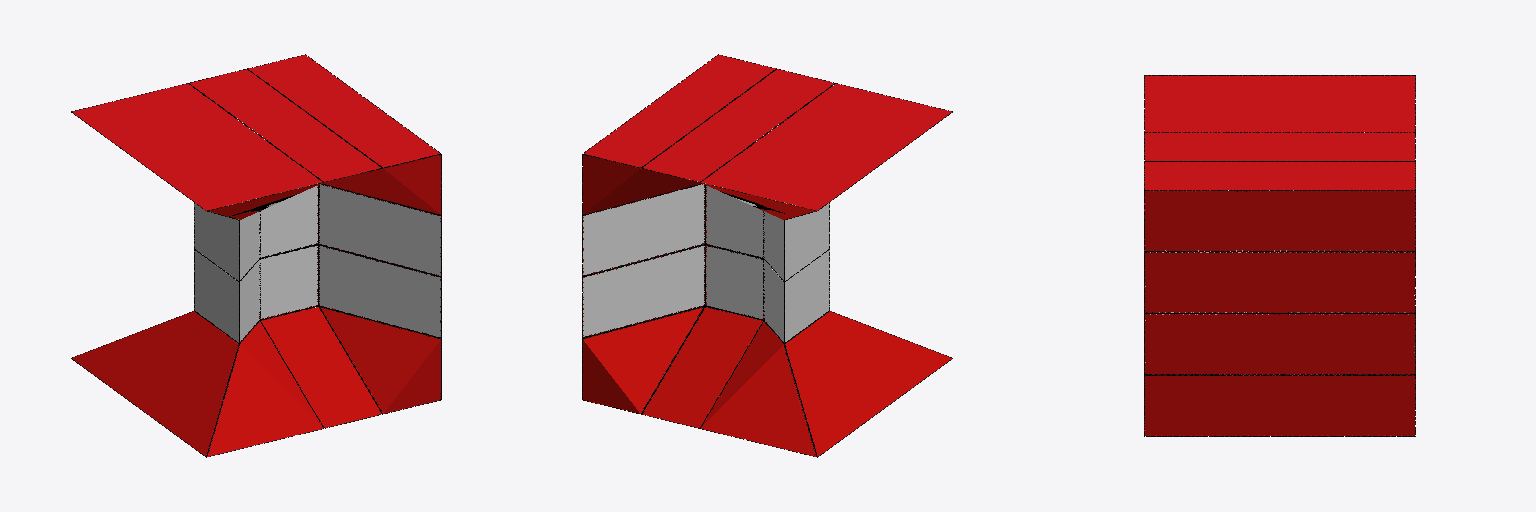
3 renders of one model, left to right at view 1: azimuth 30°, elevation 25°; view 2: azimuth 150°, elevation 25°; view 3: azimuth 270°, elevation 25°, orthographic.
Parts seen in each view (by area): view 1: Cube; view 2: Cube; view 3: Cube.
Part boxes in pixels (left/top/right/bottom): Cube: left=71, top=54, right=441, bottom=457; Cube: left=582, top=54, right=952, bottom=457; Cube: left=1144, top=75, right=1415, bottom=436.
Size of the model in its own units: 2 by 2 by 2.
1 materials, 1 textured.